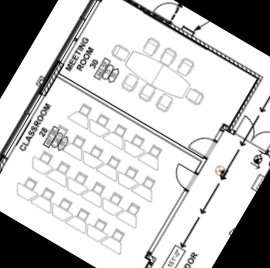door: (166, 160, 199, 192), (186, 129, 217, 159), (150, 0, 181, 25)
double door: (232, 111, 270, 154)
wall: (166, 18, 268, 84), (224, 74, 264, 136), (38, 57, 69, 100), (0, 153, 11, 201), (132, 254, 160, 268), (94, 0, 122, 4), (268, 101, 270, 153)
